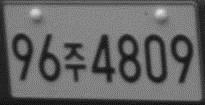0: (143, 33, 167, 82)
4: (90, 32, 116, 82)
6: (38, 32, 61, 81)
8: (117, 33, 141, 82)
9: (169, 33, 194, 84), (10, 32, 33, 80)
주: (62, 42, 87, 83)
